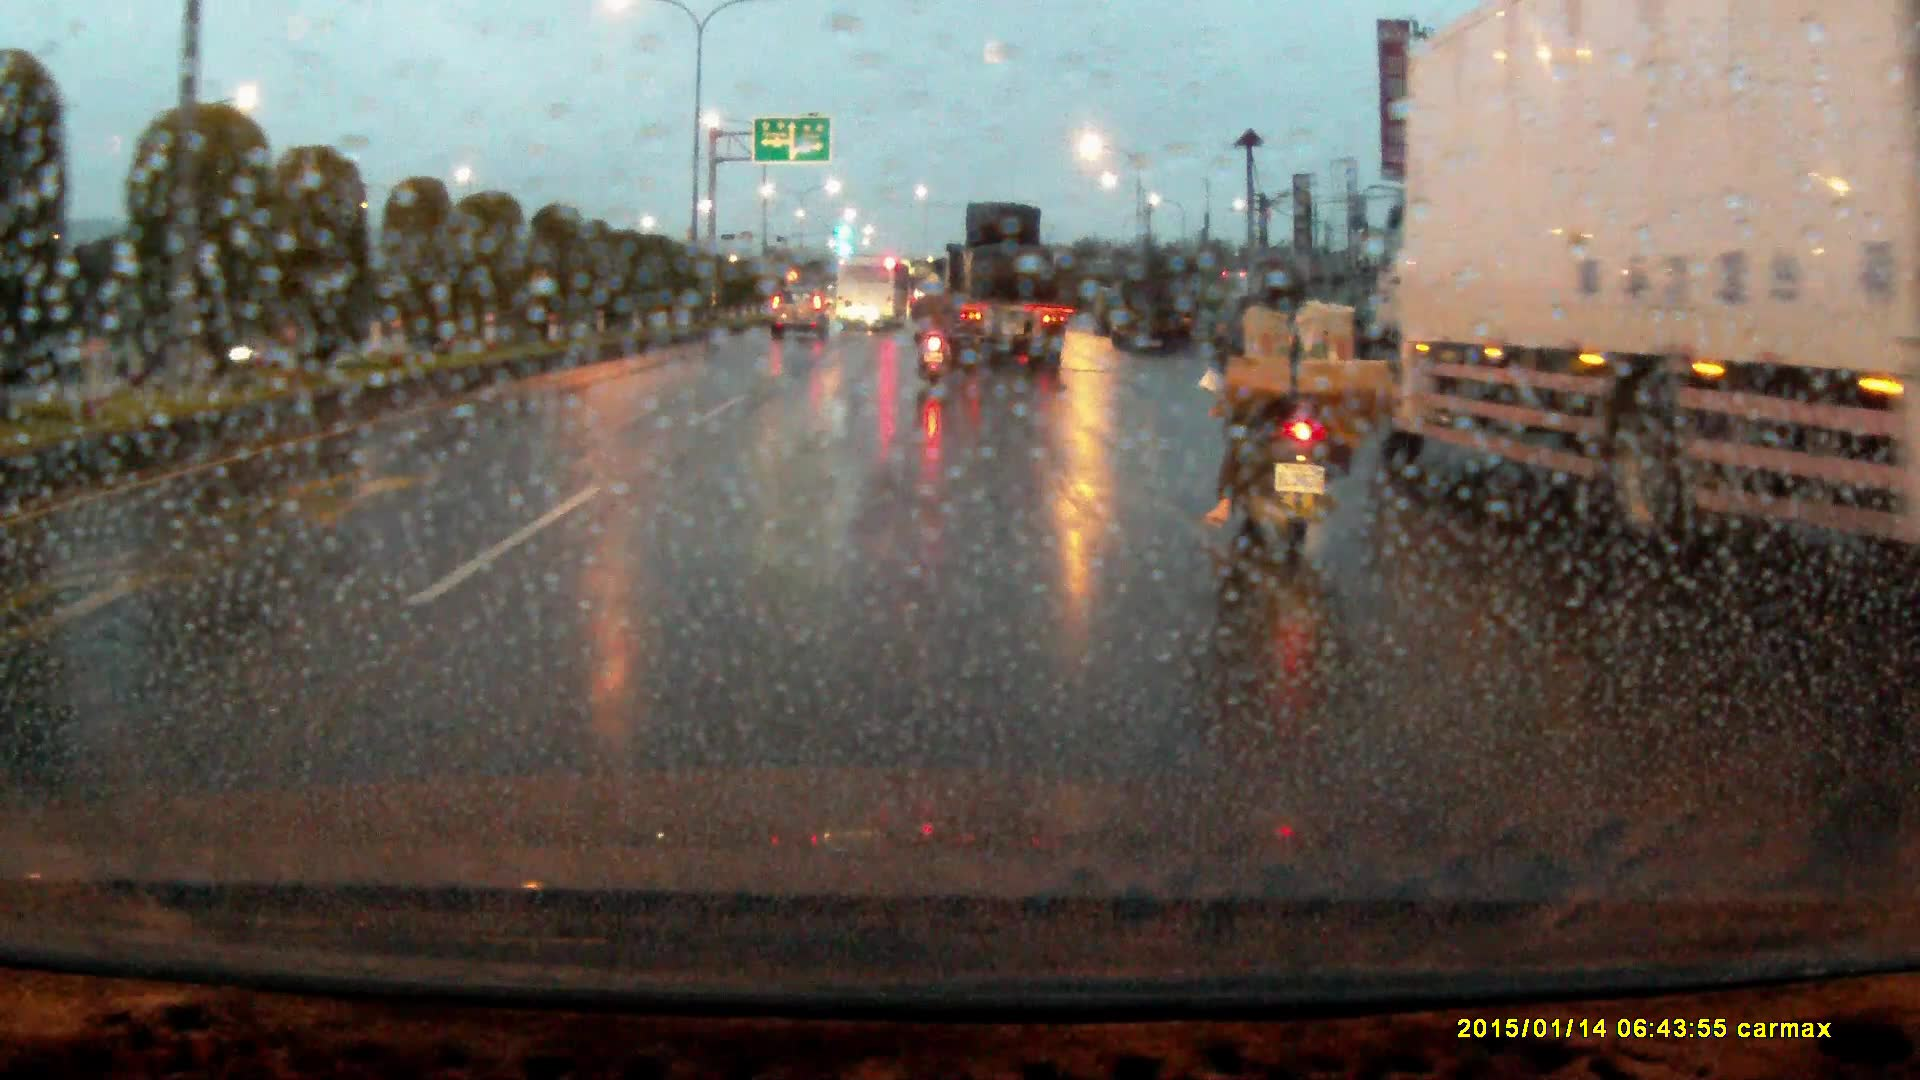rider: (1198, 253, 1398, 582), (911, 285, 955, 393)
vehicle: (1370, 1, 1920, 560), (923, 200, 1064, 368), (1113, 261, 1196, 355), (836, 256, 908, 331), (771, 288, 829, 341), (1092, 283, 1127, 333)
